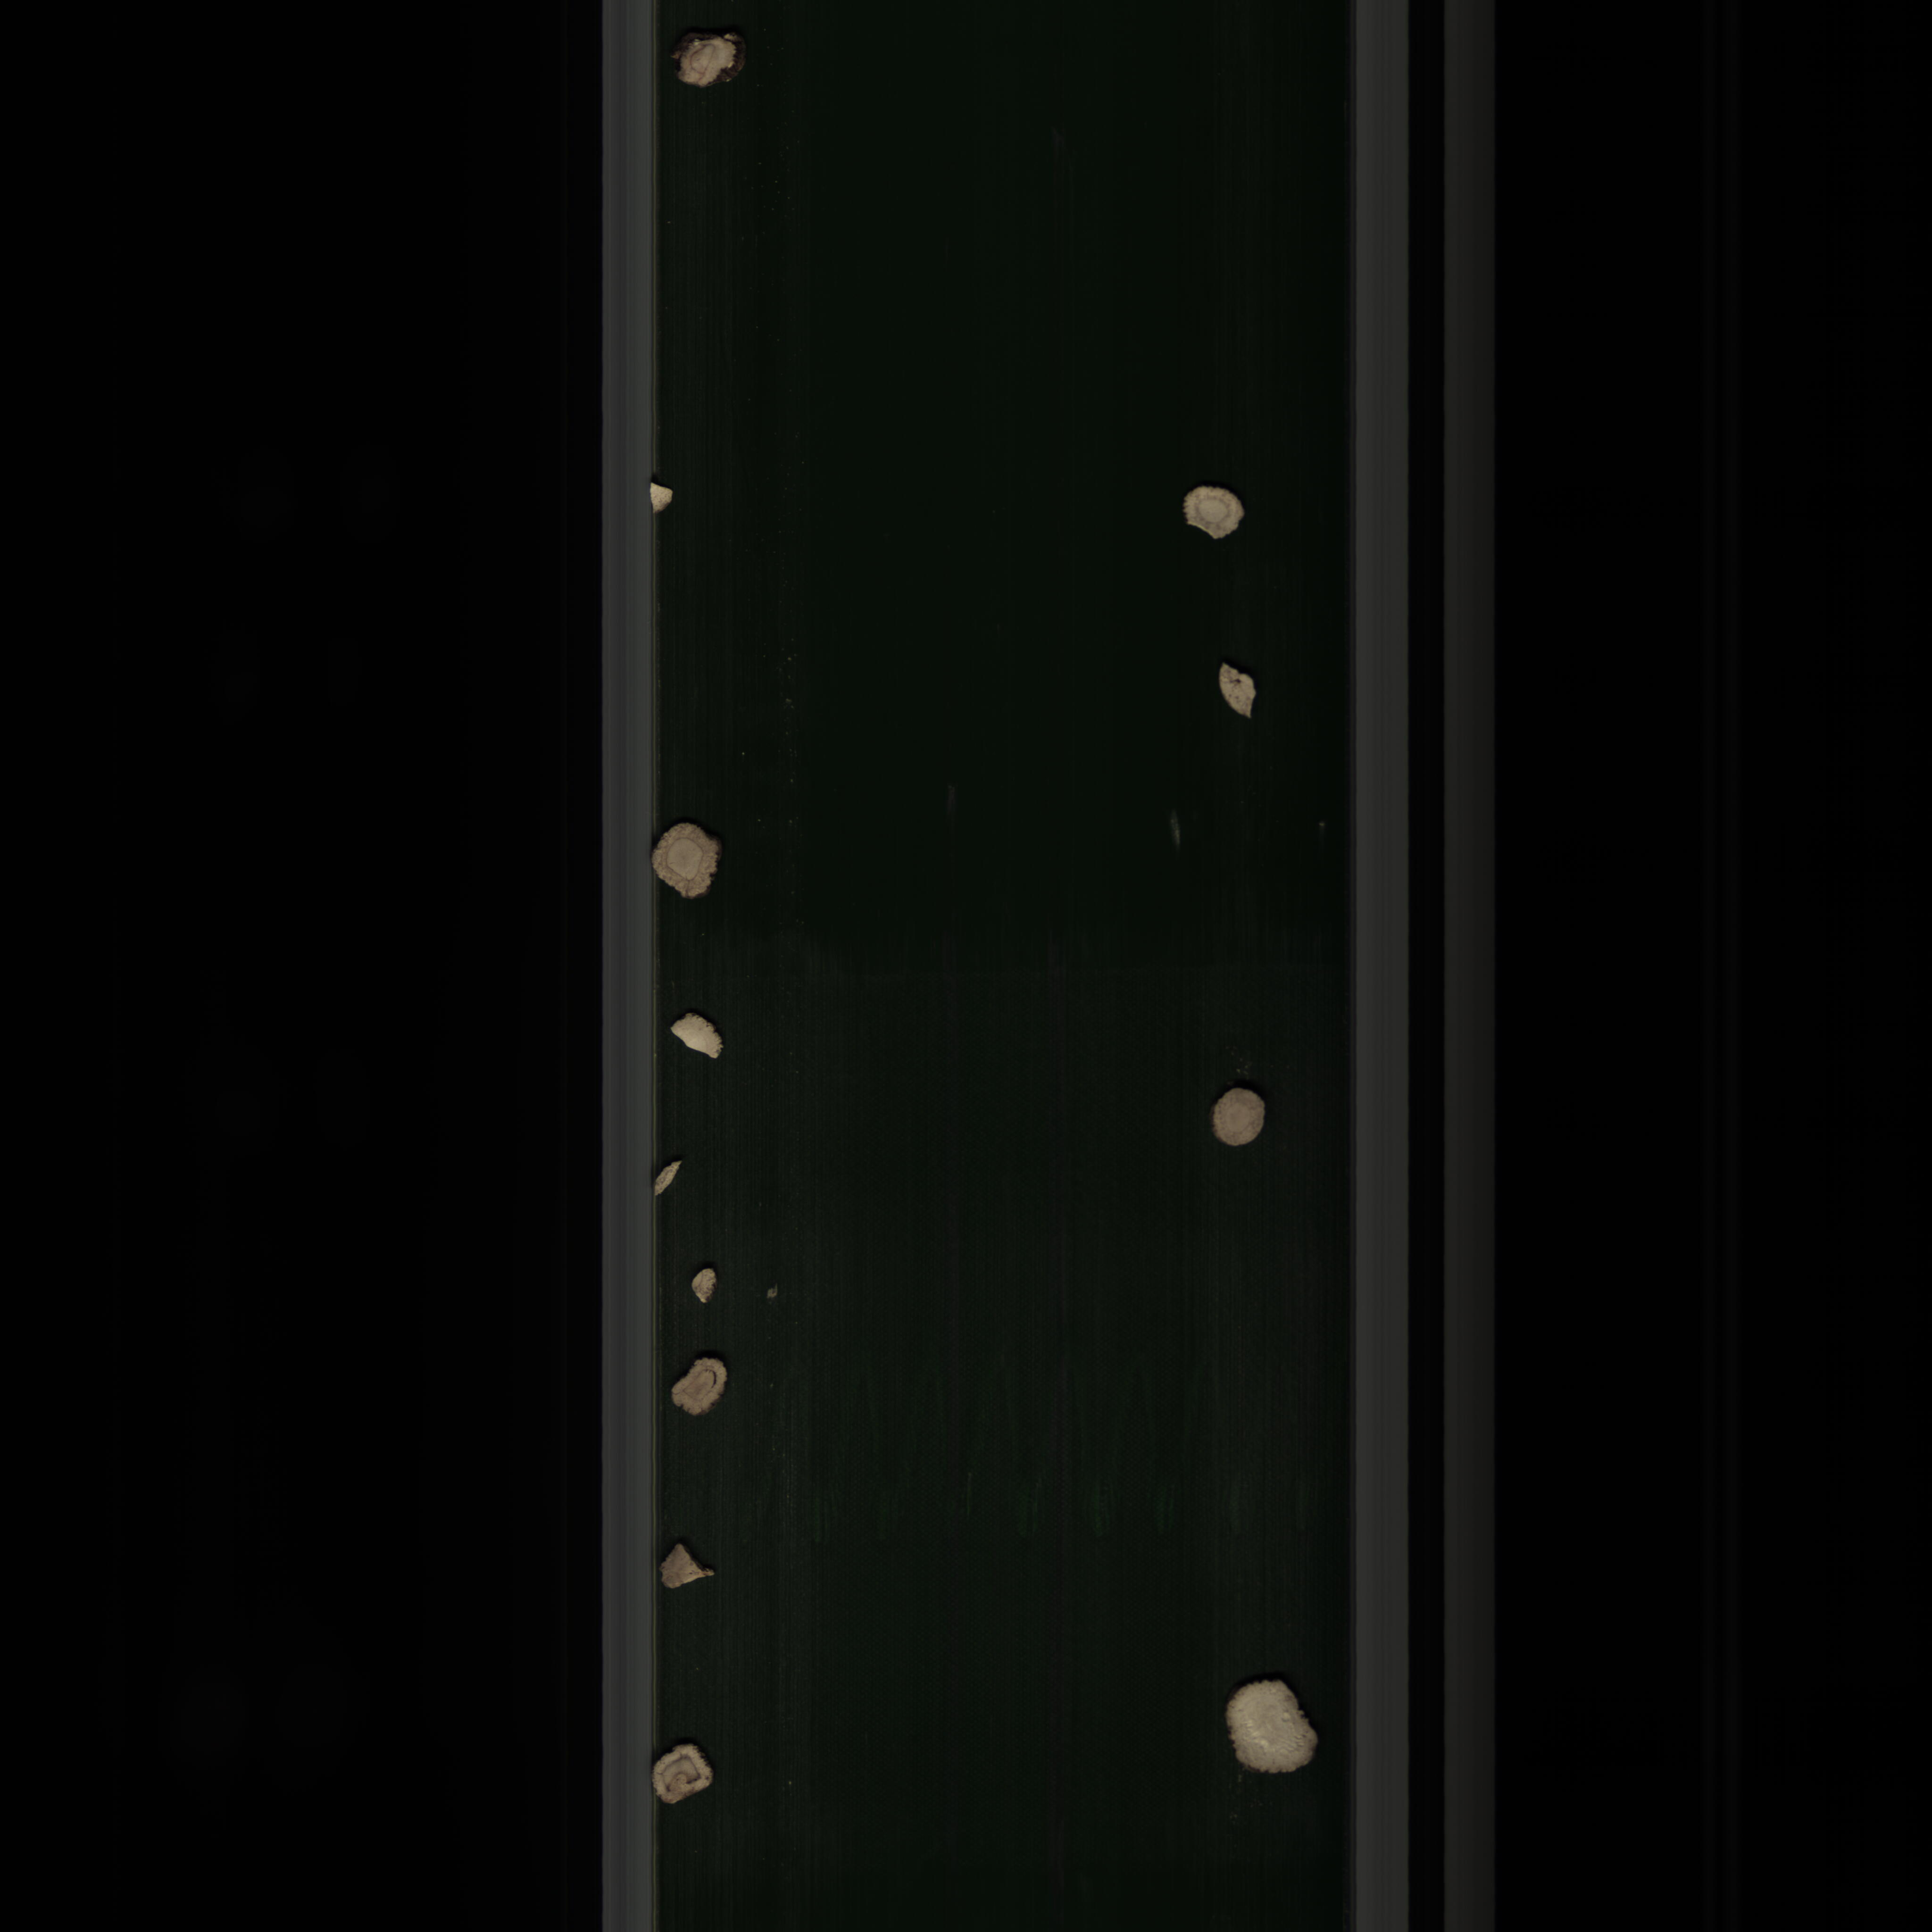bark: (663, 27, 755, 88)
debris: (660, 1005, 736, 1076), (1180, 478, 1249, 547), (1207, 649, 1261, 729), (655, 1541, 722, 1591), (644, 471, 685, 527), (686, 1263, 720, 1309), (653, 1157, 685, 1198)
moldy: (669, 1352, 736, 1421), (649, 1746, 722, 1808)
